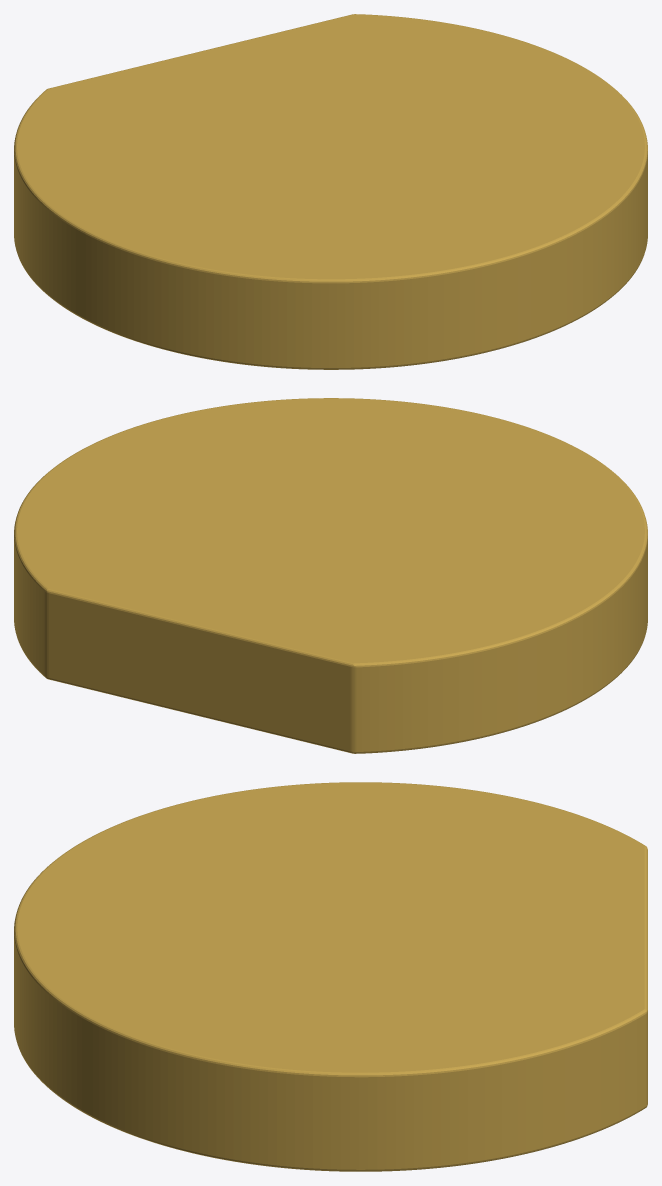
The model's file is watch-round-battery.glb.
3 views of the same model, one above another, from view 1: azimuth 30°, elevation 25°; view 2: azimuth 150°, elevation 25°; view 3: azimuth 270°, elevation 25° (orthographic). The views are drawn at different scales.
Visible parts, largest first — view 1: Round battery / Tape; view 2: Round battery / Tape; view 3: Round battery / Tape.
Part boxes in pixels (x1=…): Round battery / Tape: x1=14, y1=14, x2=647, y2=369; Round battery / Tape: x1=14, y1=398, x2=647, y2=753; Round battery / Tape: x1=14, y1=782, x2=647, y2=1171.
Size of the model in its own units: 35 by 5.5 by 32.
